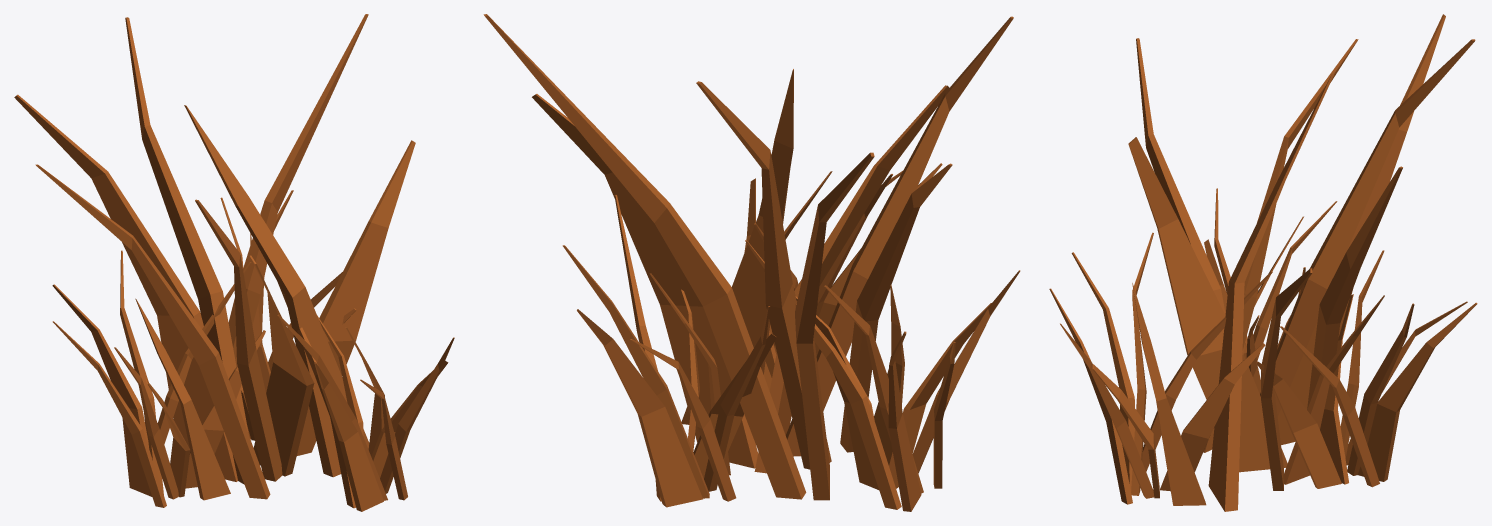
File: grass2.fbx
3 renders of one model, left to right at view 1: azimuth 30°, elevation 25°; view 2: azimuth 150°, elevation 25°; view 3: azimuth 270°, elevation 25°, orthographic. The views are drawn at different scales.
Visible parts, largest first — view 1: Grass1; view 2: Grass1; view 3: Grass1.
Part boxes in pixels (x1=…): Grass1: x1=14, y1=14, x2=454, y2=511; Grass1: x1=483, y1=14, x2=1020, y2=511; Grass1: x1=1049, y1=14, x2=1477, y2=511.
Size of the model in its own units: 92.82 by 95.77 by 91.69.
